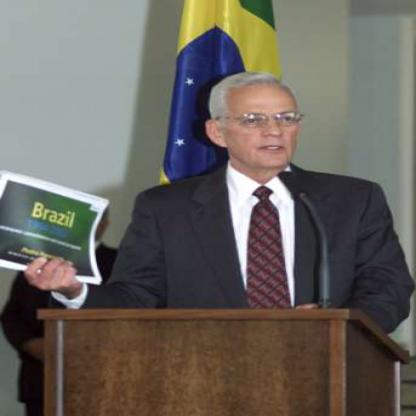face: (222, 77, 304, 170)
